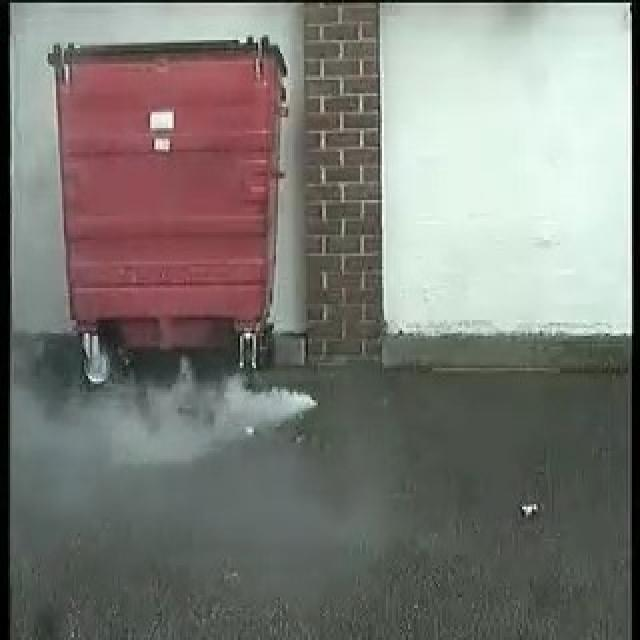smoke: (39, 384, 321, 472)
